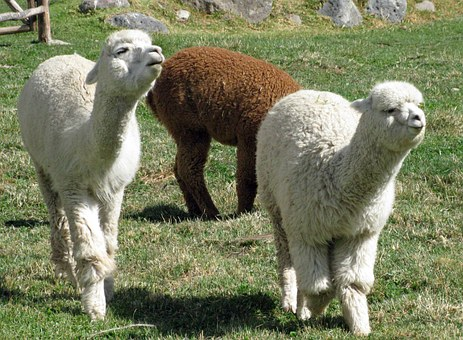alpaca: (15, 28, 164, 323), (255, 78, 426, 335)
